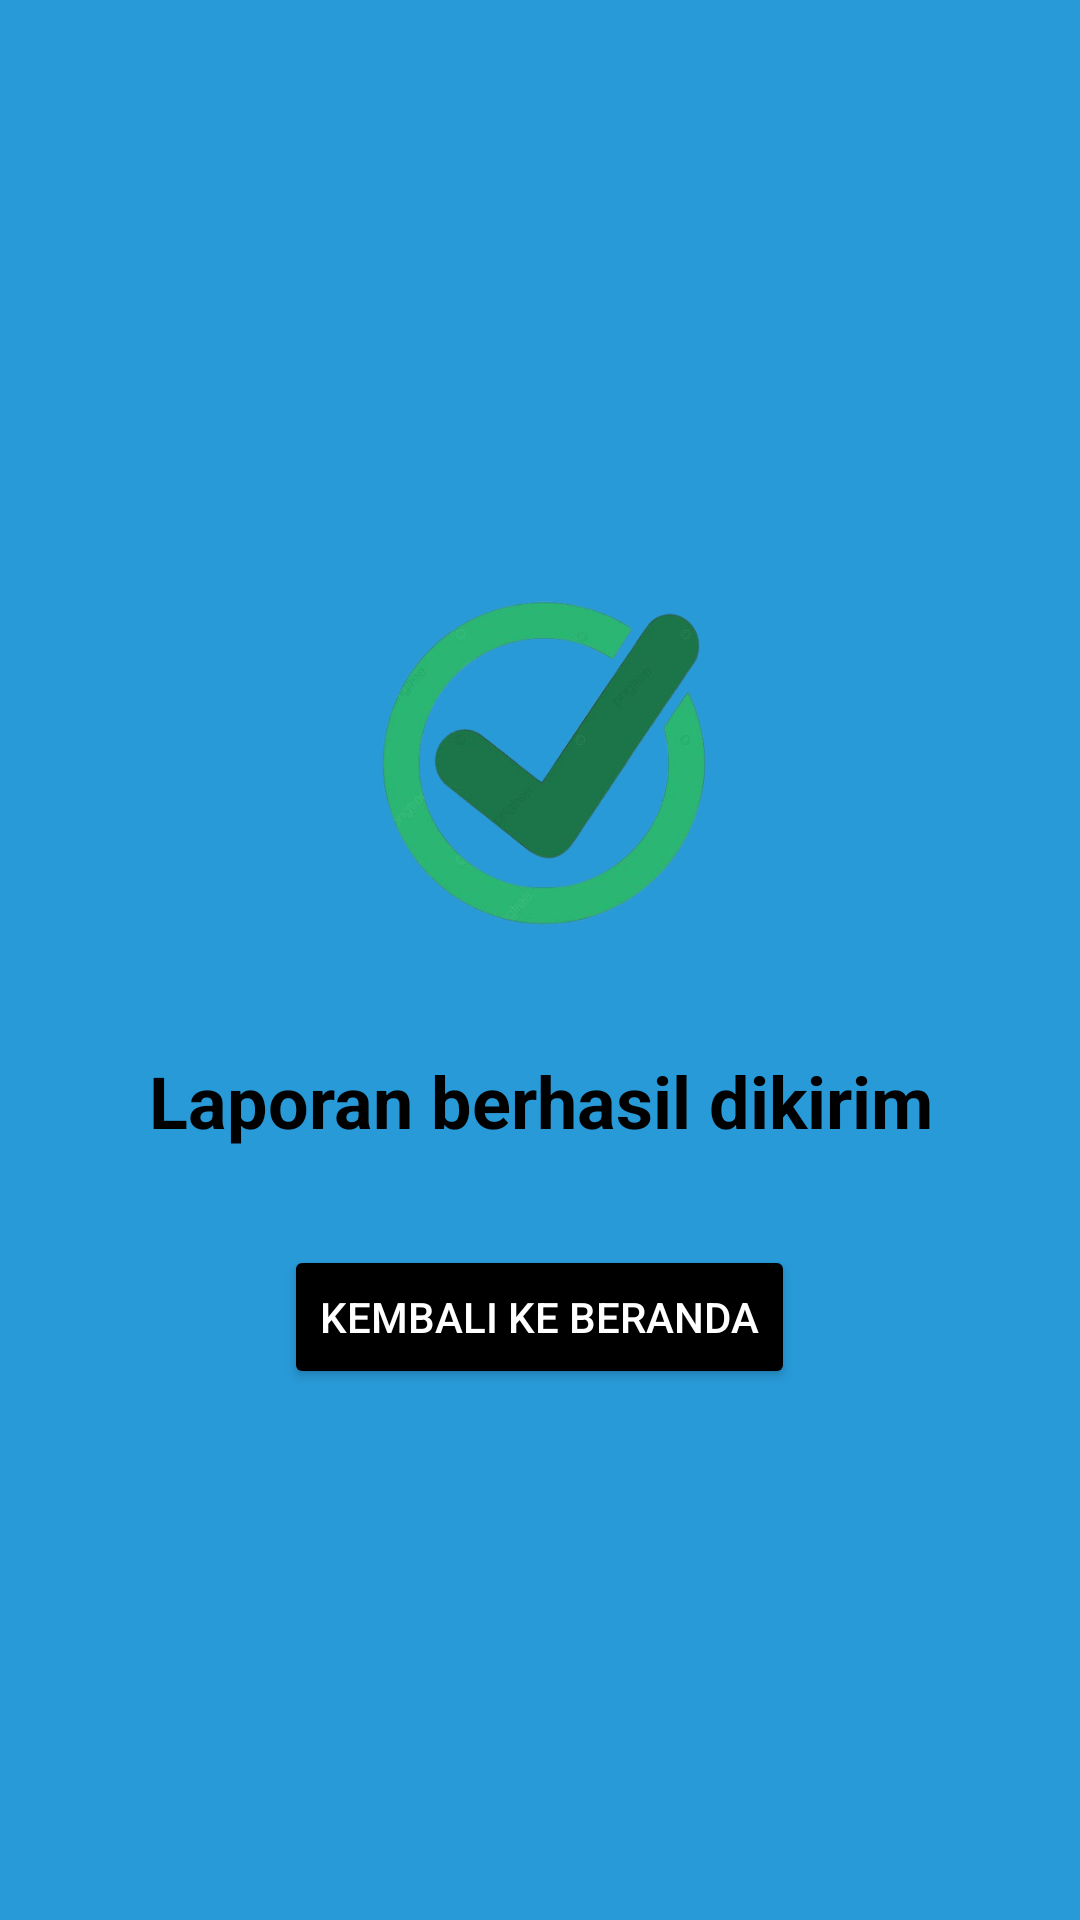

Locate icon controls on the screen. Image size 1080px x 1920px, boxes as box=[x1, y1, x2, y2].
Checklist: box=[383, 602, 705, 924]
